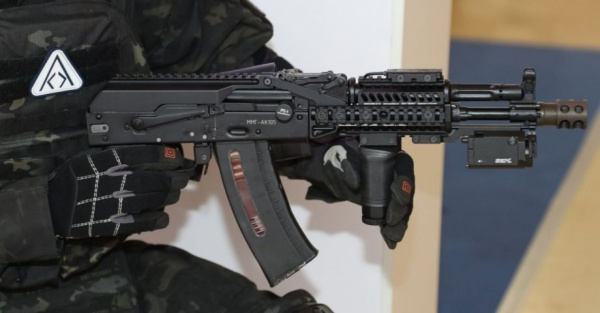ak47: (35, 67, 586, 287)
